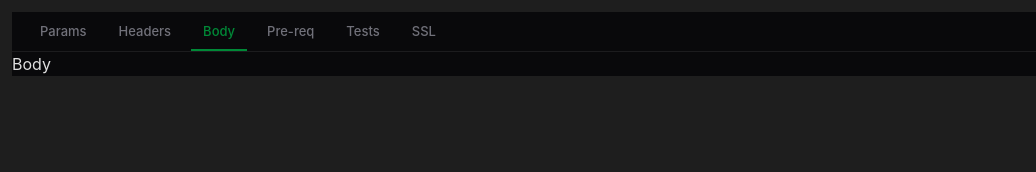
it: RequestTabs.vue › renders tabs and switches active one
The width and height of the screenshot is (1036, 172).
Check: the text "Body" is shown, box [12,54,51,74]
# Click headers
Click the button with class "requestTabs__tab" showing "Headers".
click(145, 32)  # box [107,12,183,51]
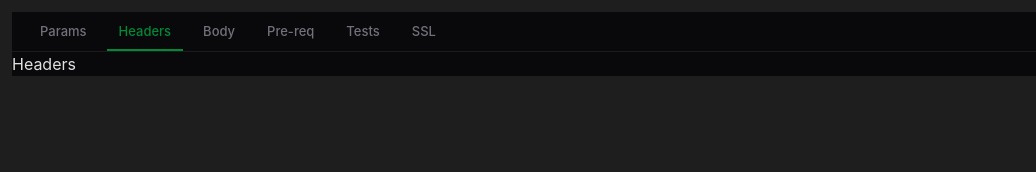
Check: the text "Headers" is shown, box [12,54,76,74]
